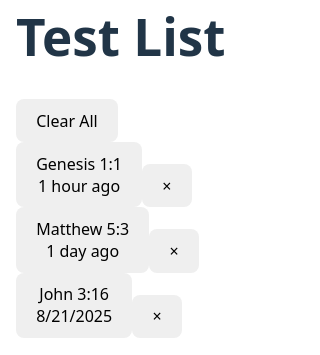
Test case: VerseList Component › Item Management › removes individual item when remove button is clicked
Expected: the text "Genesis 1:1" is shown, [36, 153, 122, 175]
Click the button named "Remove Genesis 1:1 from test list" at (167, 186), box [142, 164, 192, 208]
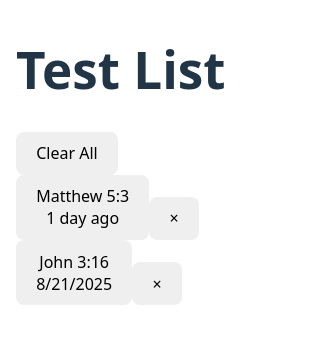
Expected: the text "Matthew 5:3" is shown, [36, 186, 129, 208]
Result: the button "Genesis 1:1" is gone
